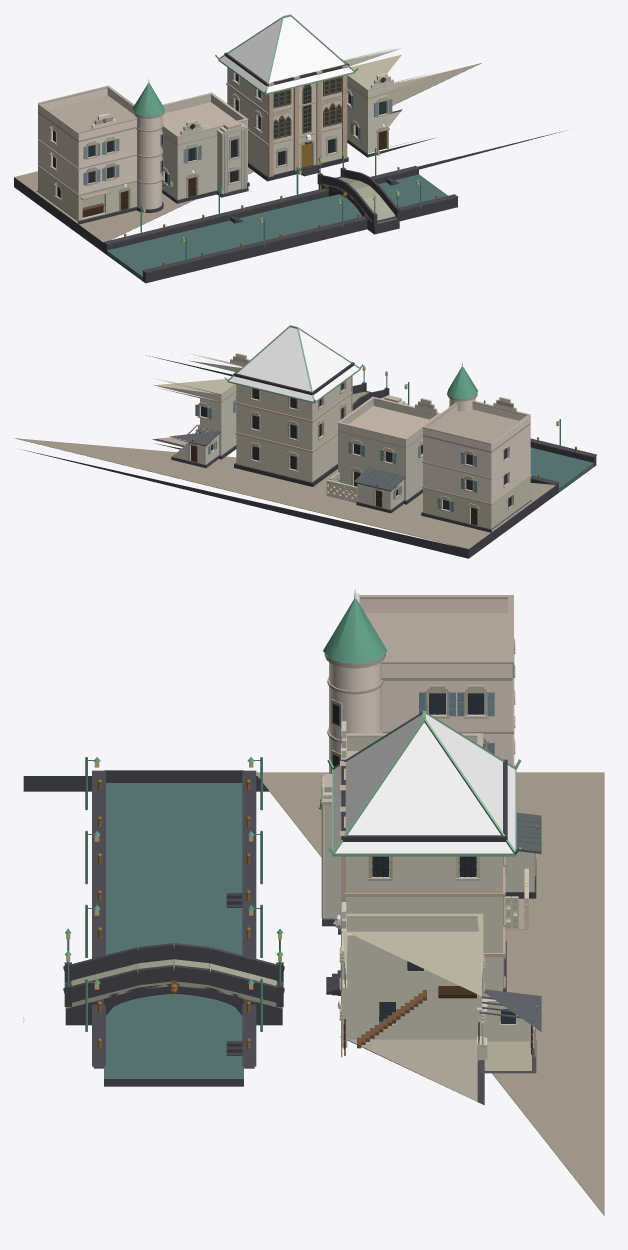
File: world.glb
3 renders of one model, top to bottom at view 1: azimuth 30°, elevation 25°; view 2: azimuth 150°, elevation 25°; view 3: azimuth 270°, elevation 25°, orthographic. The views are drawn at different scales.
Parts seen in each view (by area): view 1: bucket_0, bucket_6, bucket_13, bucket_17, bucket_18, bucket_10, bucket_11, bucket_7, bucket_15, bucket_14, bucket_1, bucket_4 (+2 smaller); view 2: bucket_0, bucket_10, bucket_17, bucket_6, bucket_18, bucket_7, bucket_13, bucket_9, bucket_15, bucket_4, bucket_11, bucket_19 (+2 smaller); view 3: bucket_0, bucket_10, bucket_13, bucket_6, bucket_18, bucket_17, bucket_15, bucket_9, bucket_11, bucket_1, bucket_4.
Boxes of the visible parts, x1,y1,x2,y2 form: bucket_0: (37,48,436,211); bucket_6: (14,52,566,283); bucket_13: (107,174,447,280); bucket_17: (226,65,348,177); bucket_18: (215,14,358,94); bucket_10: (14,63,481,242); bucket_11: (53,77,419,241); bucket_7: (38,165,136,220); bucket_15: (133,83,421,265); bucket_14: (124,76,437,266); bucket_1: (54,95,386,217); bucket_4: (49,96,392,201); bucket_0: (154,353,531,526); bucket_10: (15,391,555,549); bucket_17: (235,361,352,482); bucket_6: (16,355,596,558); bucket_18: (224,325,363,403); bucket_7: (423,475,530,528); bucket_13: (530,447,593,491); bucket_9: (169,424,405,491); bucket_15: (363,365,560,445); bucket_4: (195,401,513,512); bucket_11: (199,368,559,509); bucket_19: (326,472,357,502); bucket_0: (321,593,535,1060); bucket_10: (65,772,604,1215); bucket_13: (104,783,243,1078); bucket_6: (23,759,604,1215); bucket_18: (327,711,521,856); bucket_17: (340,761,504,1015); bucket_15: (65,599,387,1031); bucket_9: (479,812,541,1031); bucket_11: (66,693,515,1044); bucket_1: (343,693,532,1055); bucket_4: (340,654,514,1025).
Bounding box in the file's own units: 60.1 × 18.39 × 33.22.
